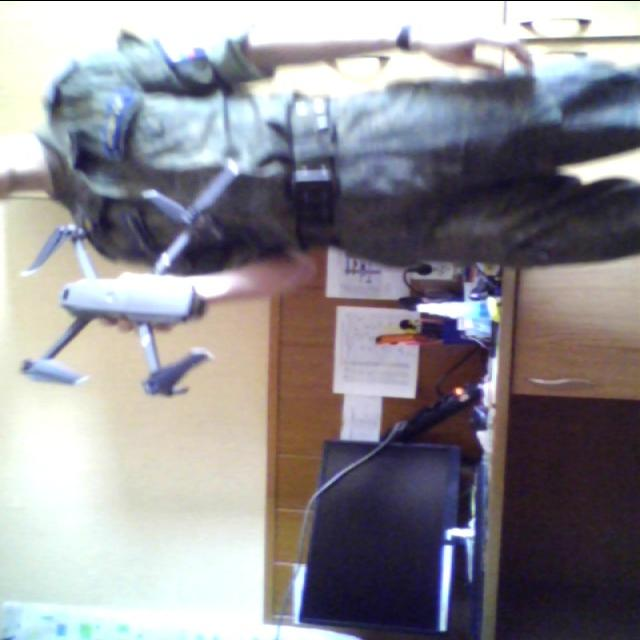drone: (0, 177, 236, 400)
